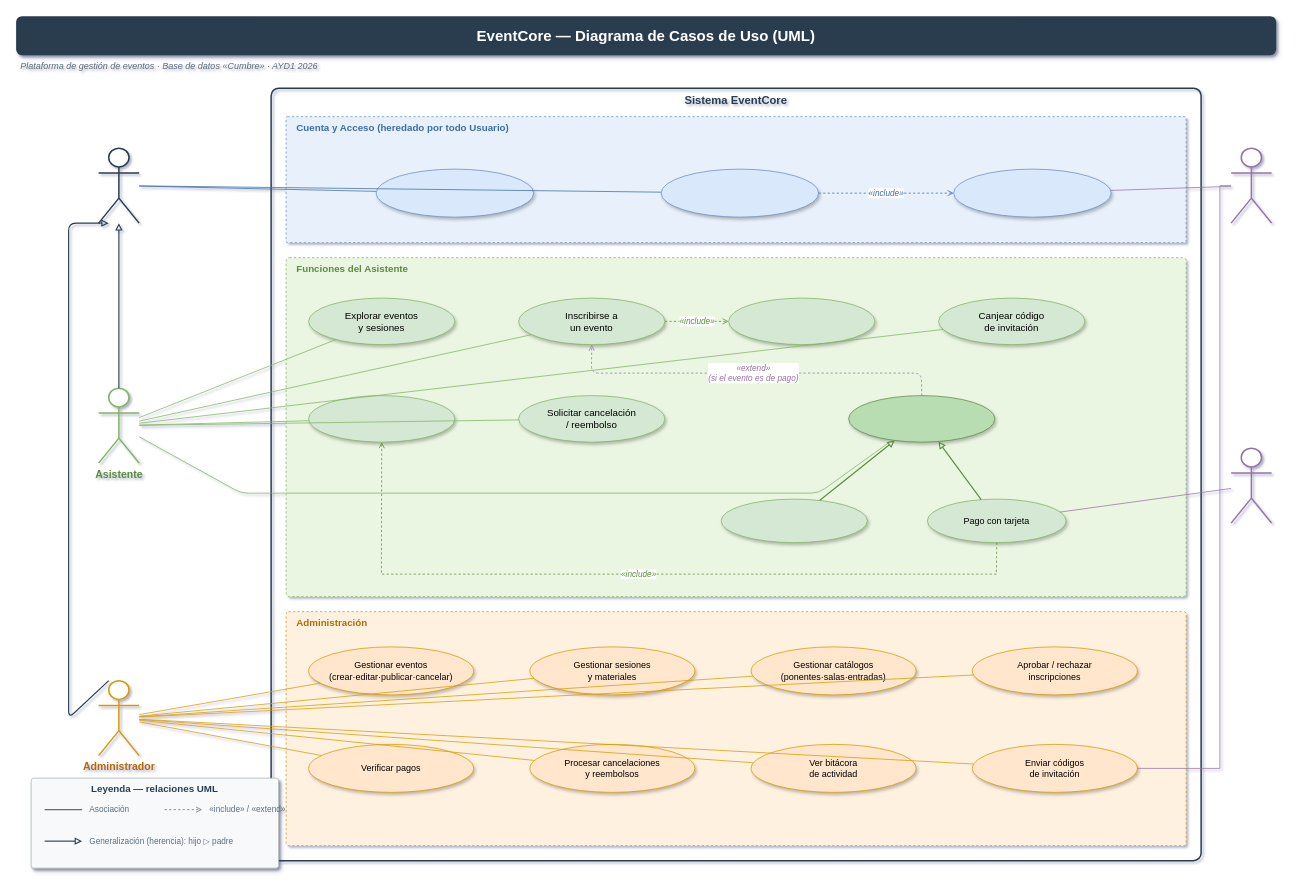
Image size: 1312x891. Some labels were removed from this diagram. The shapes that lost their labels are listed below. From the top down, each one's centre as x and y in pixels, then its label:
point 119,185: Usuario {abstract}
point 455,193: Iniciar sesión
point 740,193: Registrarse
point 1033,193: Confirmar correo
point 1251,185: Servicio de Correo
point 802,322: Seleccionar sesiones
point 382,419: Registrar tarjeta
point 922,419: Realizar pago
point 1251,485: Pasarela de Pago
point 794,521: Pago por transferencia
